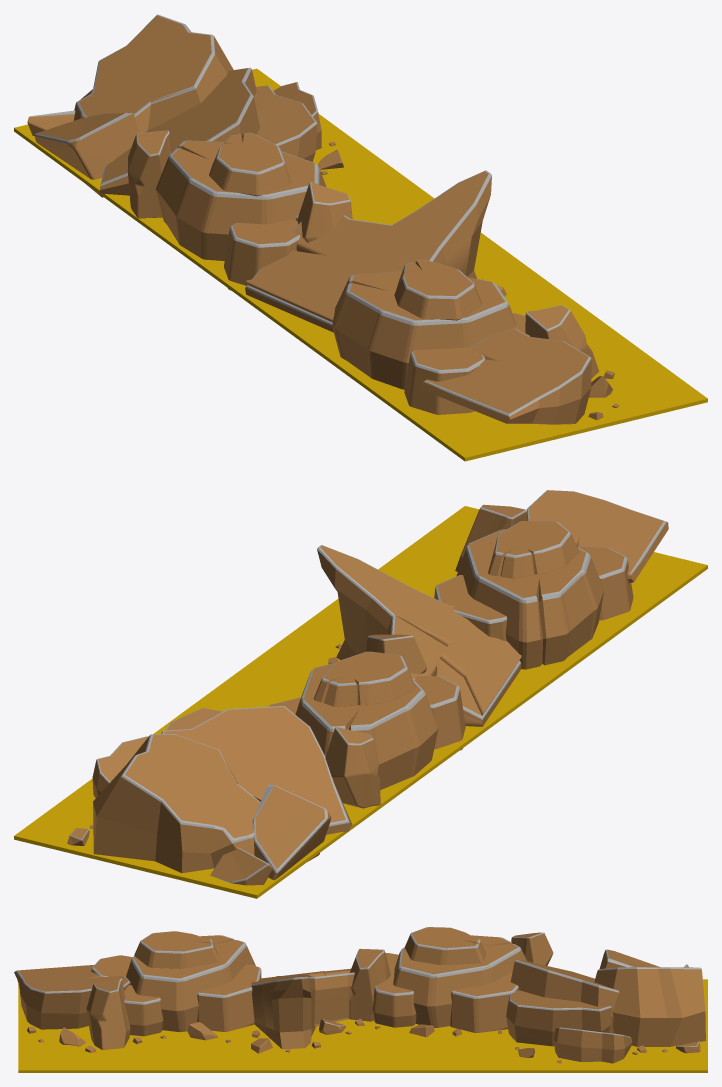
The model's file is Pebble's Road Section 04 Old.fbx.
3 renders of one model, top to bottom at view 1: azimuth 30°, elevation 25°; view 2: azimuth 150°, elevation 25°; view 3: azimuth 270°, elevation 25°, orthographic. The views are drawn at different scales.
Parts seen in each view (by area): view 1: Ground, Rock_04 (×4), Rock_02, Rock_10 (3*, Rock_10, Rock_07, Rock_13 (×3), Rock_09 (×2), Rock_12 (×2); view 2: Ground, Rock_04 (×3), Rock_07, Rock_10 (3*, Rock_02, Rock_10, Rock_12 (×2), Rock_13 (×3), Rock_09 (×2); view 3: Ground, Rock_04 (×4), Rock_10, Rock_10 (3*, Rock_07, Rock_02, Rock_13 (×3), Rock_12 (×4), Rock_09, Rock_11.
Part boxes in pixels (box(x1,y1,x2,y2)): Ground: box(14, 68, 707, 461); Rock_04 (×4): box(100, 67, 591, 424); Rock_02: box(245, 170, 491, 332); Rock_10 (3*: box(332, 259, 529, 389); Rock_10: box(156, 132, 326, 260); Rock_07: box(74, 14, 233, 132); Rock_13 (×3): box(127, 130, 599, 378); Rock_09 (×2): box(224, 219, 485, 414); Rock_12 (×2): box(27, 110, 138, 197); Ground: box(14, 506, 707, 898); Rock_04 (×3): box(92, 490, 668, 834); Rock_07: box(93, 734, 261, 872); Rock_10 (3*: box(434, 521, 603, 669); Rock_02: box(317, 545, 521, 726); Rock_10: box(269, 651, 438, 789); Rock_12 (×2): box(210, 784, 331, 885); Rock_13 (×3): box(325, 504, 527, 808); Rock_09 (×2): box(414, 546, 633, 750); Ground: box(18, 979, 707, 1072); Rock_04 (×4): box(14, 959, 632, 1063); Rock_10: box(372, 927, 526, 1032); Rock_10 (3*: box(124, 931, 261, 1036); Rock_07: box(594, 967, 705, 1046); Rock_02: box(251, 968, 354, 1049); Rock_13 (×3): box(86, 932, 553, 1050); Rock_12 (×4): box(59, 949, 660, 1046); Rock_09: box(91, 955, 132, 977); Rock_11: box(251, 1038, 272, 1053).
Size of the model in its own units: 7237 by 3373 by 22639.
